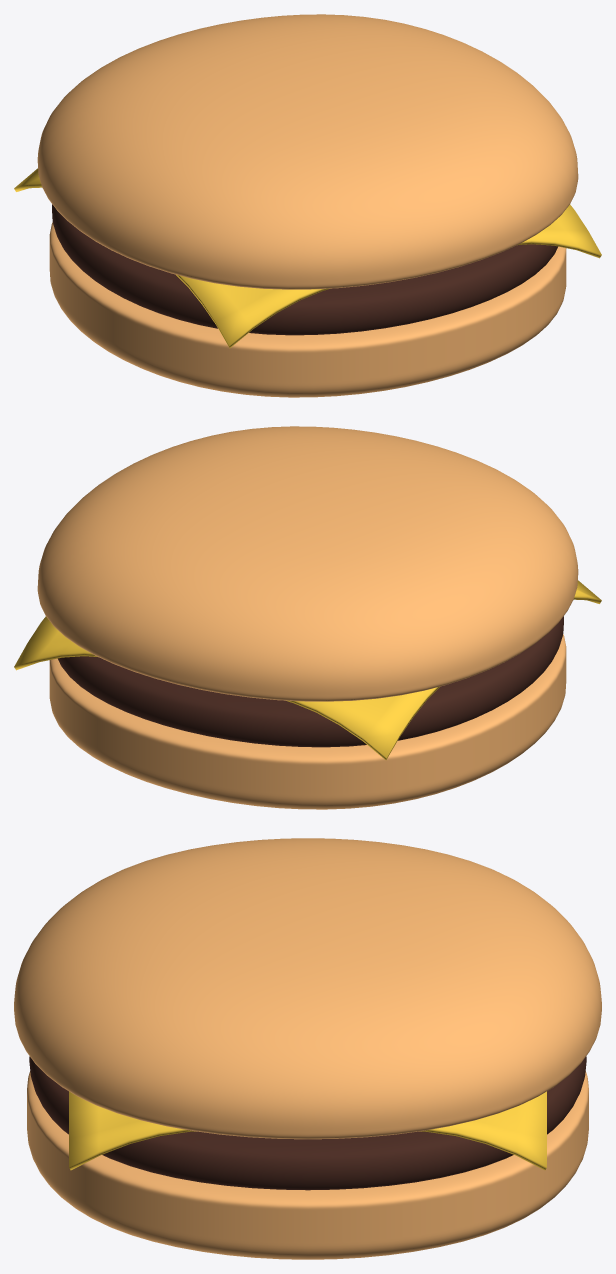
Rendered from burger.glb.
The picture shows the model from 3 angles, top to bottom: view 1: azimuth 30°, elevation 25°; view 2: azimuth 150°, elevation 25°; view 3: azimuth 270°, elevation 25°; orthographic projection. The views are drawn at different scales.
Parts seen in each view (by area): view 1: top_bun, bottom_bun, meat, cheese; view 2: top_bun, bottom_bun, meat, cheese; view 3: top_bun, bottom_bun, meat, cheese.
Boxes of the visible parts, x1,y1,x2,y2 form: top_bun: (37,14,578,289); bottom_bun: (49,222,566,397); meat: (52,204,557,335); cheese: (14,168,601,348); top_bun: (37,426,578,701); bottom_bun: (49,634,566,809); meat: (58,616,563,747); cheese: (14,580,601,760); top_bun: (14,838,601,1139); bottom_bun: (27,1071,588,1259); meat: (29,1056,586,1190); cheese: (69,1091,546,1170).
Bounding box in the file's own units: 9.18 × 4.49 × 9.18.
